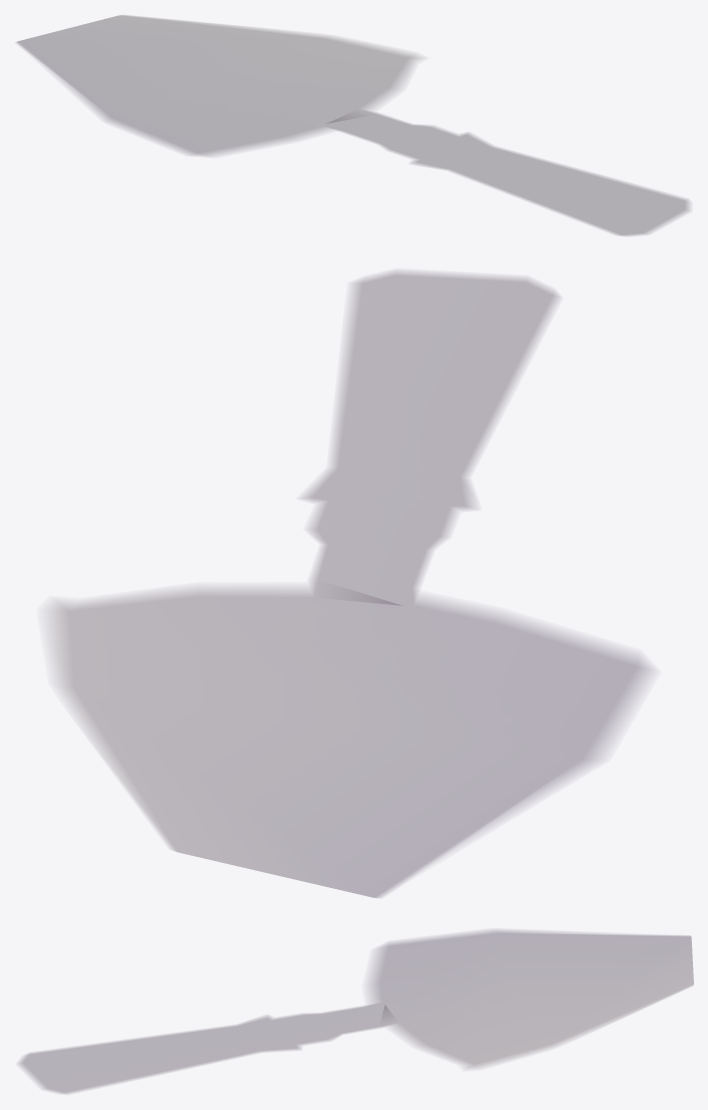
The picture shows the model from 3 angles, top to bottom: view 1: azimuth 30°, elevation 25°; view 2: azimuth 150°, elevation 25°; view 3: azimuth 270°, elevation 25°; orthographic projection. The views are drawn at different scales.
Visible parts, largest first — view 1: Joint_0_Object_0; view 2: Joint_0_Object_0; view 3: Joint_0_Object_0.
Part boxes in pixels (x1,y1,x2,y2): Joint_0_Object_0: [16, 15, 689, 235]; Joint_0_Object_0: [50, 271, 650, 897]; Joint_0_Object_0: [19, 930, 693, 1093].
Size of the model in its own units: 262 by 0 by 446.
1 material, 1 textured.
